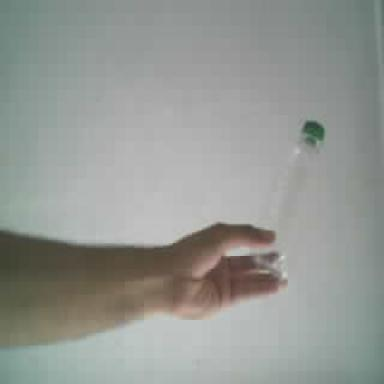bottle: (264, 123, 325, 258)
